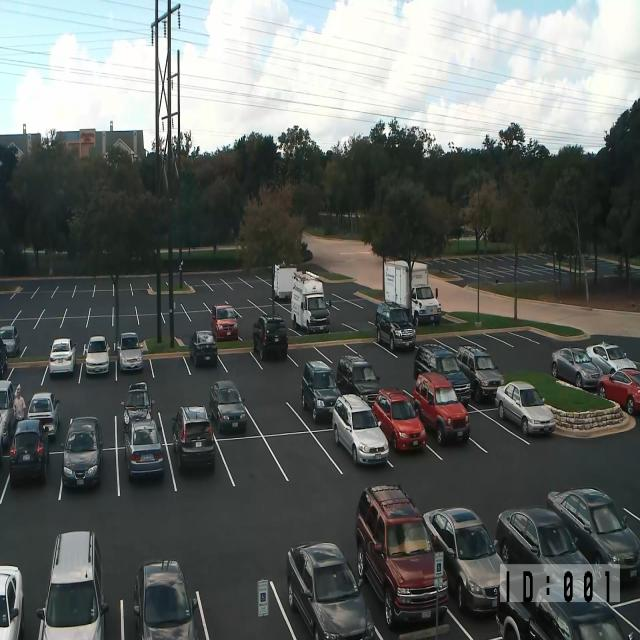car: (355, 483, 449, 629), (496, 572, 640, 639), (494, 506, 594, 602), (422, 506, 506, 616), (546, 486, 640, 583), (286, 541, 375, 639), (36, 530, 109, 639), (133, 558, 198, 640), (529, 598, 638, 639), (413, 371, 471, 446), (332, 393, 389, 466), (413, 343, 471, 409), (372, 388, 427, 452), (495, 381, 556, 436), (61, 415, 103, 489), (172, 405, 216, 472), (456, 345, 504, 403), (9, 418, 49, 483), (124, 417, 164, 480), (301, 360, 341, 422), (336, 353, 381, 408), (551, 347, 603, 390), (375, 301, 416, 351), (597, 368, 640, 415), (209, 380, 247, 432), (0, 564, 24, 639), (586, 340, 637, 374), (121, 381, 154, 433), (252, 314, 288, 361), (414, 341, 456, 380), (27, 392, 60, 439), (411, 284, 441, 326), (116, 332, 144, 372), (189, 330, 218, 368), (83, 335, 110, 375), (211, 303, 238, 342), (49, 337, 76, 375), (0, 406, 17, 466), (0, 325, 20, 356), (0, 379, 15, 417), (0, 337, 8, 378)
